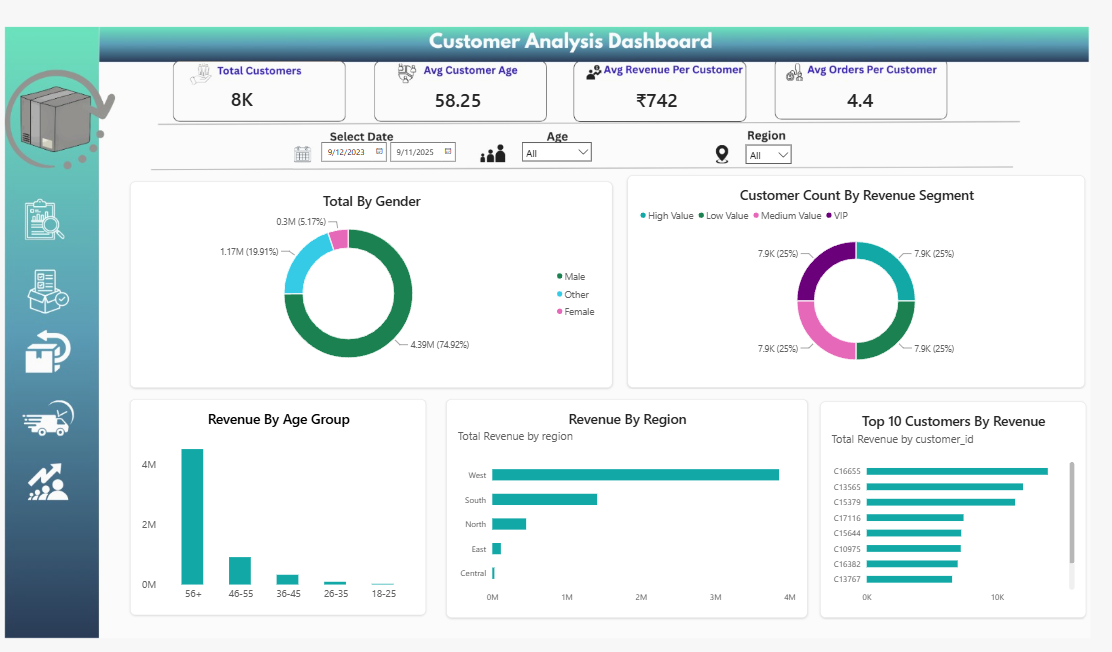

The dashboard page shown, as its layout file describes it:
{"tool":"powerbi","page":{"name":"Customer Analysis","canvas":[1920,1080],"ordinal":3},"visuals":[{"type":"donutChart","title":"Total By Gender","fields":{"Category":["customers.customer_gender"],"Y":["orders.Total Revenue"]},"box":[346,312.9,710.4,303.7],"z":0},{"type":"clusteredBarChart","title":"Top 10 Customers By Revenue","fields":{"Category":["customers.customer_id"],"Y":["orders.Total Revenue"]},"box":[1362,636.8,392,318.4],"z":1},{"type":"columnChart","title":"Revenue By Age Group","fields":{"Category":["customers.Age Group"],"Y":["orders.Total Revenue"]},"box":[346,633.1,436.2,318.4],"z":2},{"type":"donutChart","title":"Customer Count By Revenue Segment","fields":{"Category":["orders.Revenue Segment"],"Y":["CountNonNull(customers.Customer Count)"]},"box":[1078.5,303.7,673.6,312.9],"z":3},{"type":"clusteredBarChart","title":"Revenue By Region","fields":{"Category":["customers.region"],"Y":["orders.Total Revenue"]},"box":[811.7,633.1,531.9,322.1],"z":4},{"type":"cardVisual","fields":{"Data":["customers.Total Customers"]},"box":[482.2,165.6,95.7,47.9],"z":5},{"type":"cardVisual","fields":{"Data":["customers.Avg Customer Age"]},"box":[782.2,167.5,101.2,46],"z":6},{"type":"cardVisual","fields":{"Data":["customers.Revenue Per Customer"]},"box":[1078.5,169.3,95.7,44.2],"z":7},{"type":"cardVisual","fields":{"Data":["orders.Orders Per Customer"]},"box":[1389.6,169.3,93.9,44.2],"z":8},{"type":"slicer","fields":{"Values":["Date_Table.Date"]},"box":[620.2,250.3,237.4,36.8],"z":9},{"type":"slicer","fields":{"Values":["customers.Age Group"]},"box":[918.4,250.3,112.3,44.2],"z":10},{"type":"slicer","fields":{"Values":["customers.region"]},"box":[1247.9,254,77.3,35],"z":11}]}

Visuals, with their boxes on the page's 1920x1080 design canvas (x1, y1, x2, y2). These are canvas units, not pixel positions in the 1112x652 screenshot, which may show the page scaled, cropped or inside an application window:
"Total By Gender" donutChart: bbox=(346, 313, 1056, 617)
"Top 10 Customers By Revenue" clusteredBarChart: bbox=(1362, 637, 1754, 955)
"Revenue By Age Group" columnChart: bbox=(346, 633, 782, 952)
"Customer Count By Revenue Segment" donutChart: bbox=(1078, 304, 1752, 617)
"Revenue By Region" clusteredBarChart: bbox=(812, 633, 1344, 955)
cardVisual - customers.Total Customers: bbox=(482, 166, 578, 214)
cardVisual - customers.Avg Customer Age: bbox=(782, 168, 883, 214)
cardVisual - customers.Revenue Per Customer: bbox=(1078, 169, 1174, 214)
cardVisual - orders.Orders Per Customer: bbox=(1390, 169, 1484, 214)
slicer - Date_Table.Date: bbox=(620, 250, 858, 287)
slicer - customers.Age Group: bbox=(918, 250, 1031, 294)
slicer - customers.region: bbox=(1248, 254, 1325, 289)
